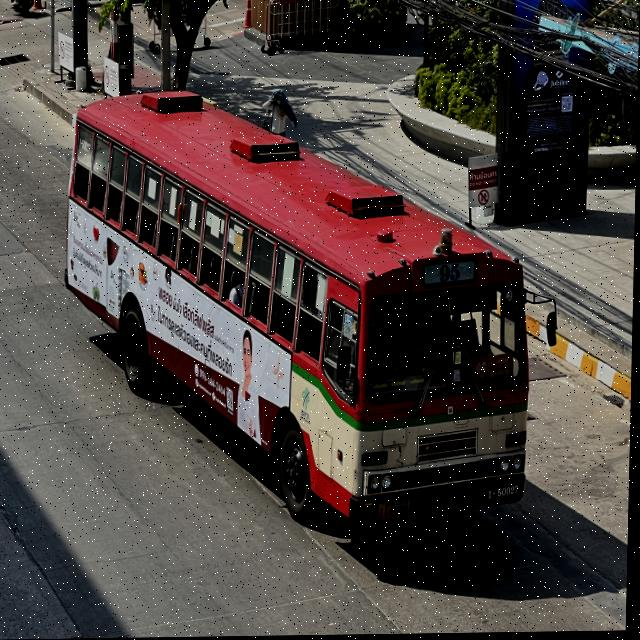BMTA-bus: (60, 86, 538, 536)
Bus-Line-Number: (420, 256, 480, 293)
Destination-Sign-Normal: (470, 355, 515, 385)
